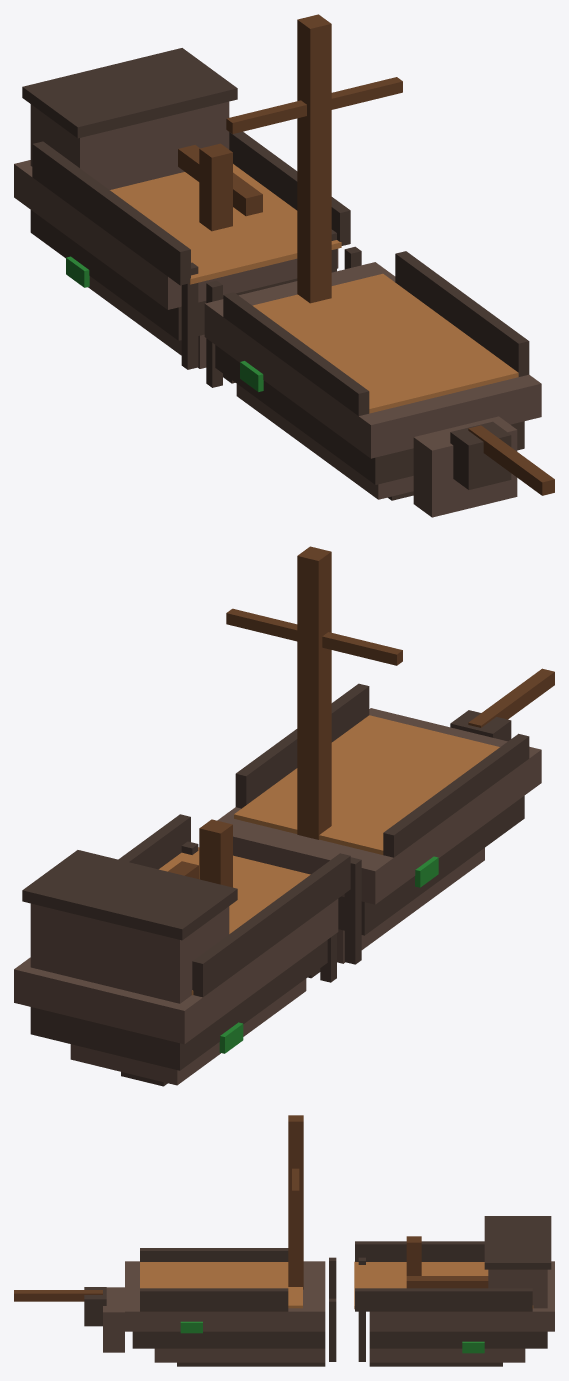
Rendered from Shipwreck.glb.
3 views of the same model, one above another, from view 1: azimuth 30°, elevation 25°; view 2: azimuth 150°, elevation 25°; view 3: azimuth 270°, elevation 25° (orthographic). The views are drawn at different scales.
Visible parts, largest first — view 1: Shipwreck; view 2: Shipwreck; view 3: Shipwreck.
Boxes of the visible parts, box(x1,y1,x2,y2) form: Shipwreck: box(14, 14, 554, 517); Shipwreck: box(14, 546, 554, 1086); Shipwreck: box(14, 1115, 554, 1366).
Size of the model in its own units: 16.9 by 36 by 73.
Materials: 1 (1 with a texture image).
